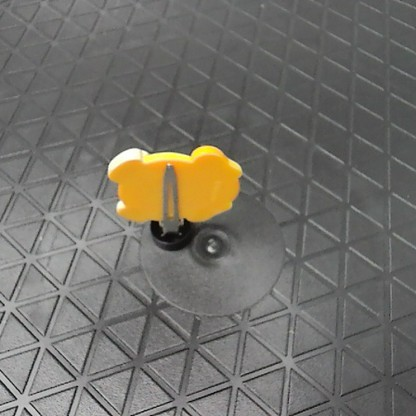dogclip: (100, 143, 244, 235)
